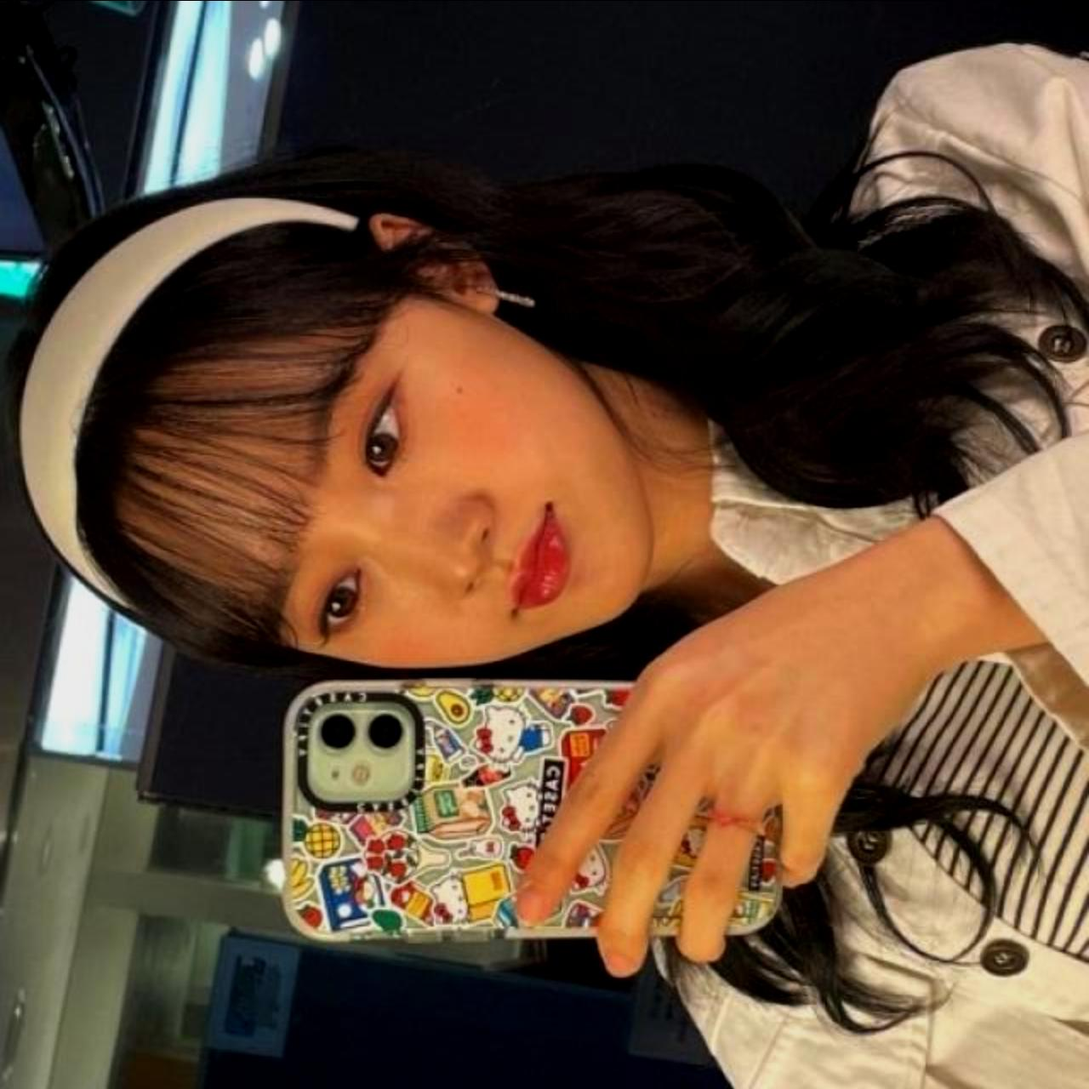phone: (267, 679, 795, 936)
